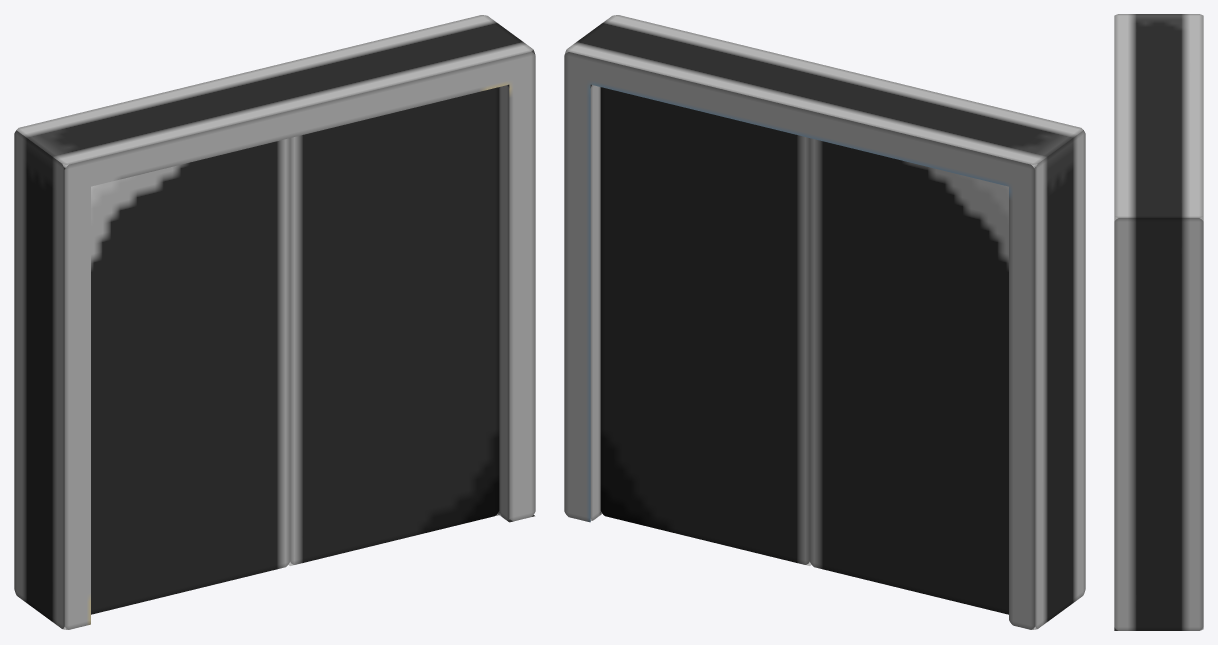
Rendered from double_door.fbx.
3 views of the same model, side by side, from view 1: azimuth 30°, elevation 25°; view 2: azimuth 150°, elevation 25°; view 3: azimuth 270°, elevation 25° (orthographic). The views are drawn at different scales.
Visible parts, largest first — view 1: right_door, Frame, left_door; view 2: right_door, Frame, left_door; view 3: Frame.
Boxes of the visible parts, left/top/right/bottom form: right_door: left=288, top=87, right=499, bottom=565; Frame: left=14, top=15, right=535, bottom=629; left_door: left=63, top=138, right=289, bottom=614; right_door: left=600, top=87, right=811, bottom=565; Frame: left=564, top=15, right=1085, bottom=629; left_door: left=810, top=138, right=1036, bottom=614; Frame: left=1114, top=14, right=1203, bottom=630.
Size of the model in its own units: 338 by 319 by 62.5.
Materials: 1 (1 with a texture image).
